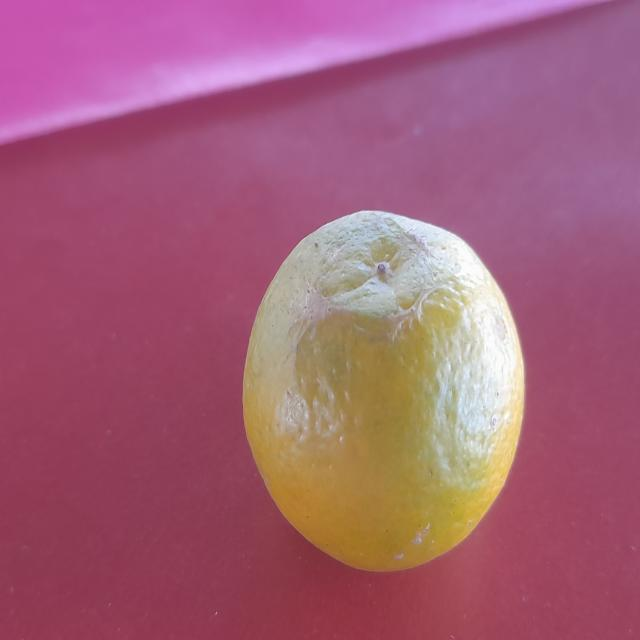greening: (240, 210, 527, 572)
